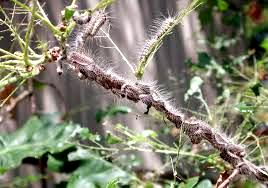Caterpillar: (87, 8, 113, 37), (154, 10, 179, 40), (67, 48, 96, 69), (187, 119, 210, 135), (81, 17, 96, 41), (139, 40, 153, 63), (210, 132, 227, 148), (164, 109, 185, 120), (224, 151, 242, 163), (120, 83, 133, 97), (151, 87, 163, 101), (139, 93, 151, 105), (111, 76, 125, 84), (109, 89, 121, 97)
